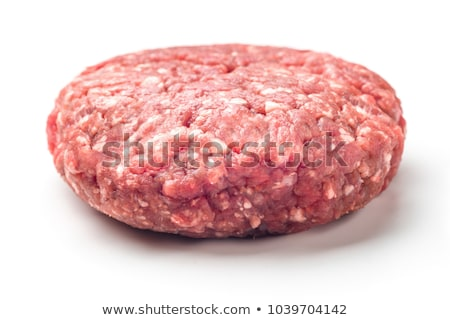ground_beef: (52, 43, 411, 244)
